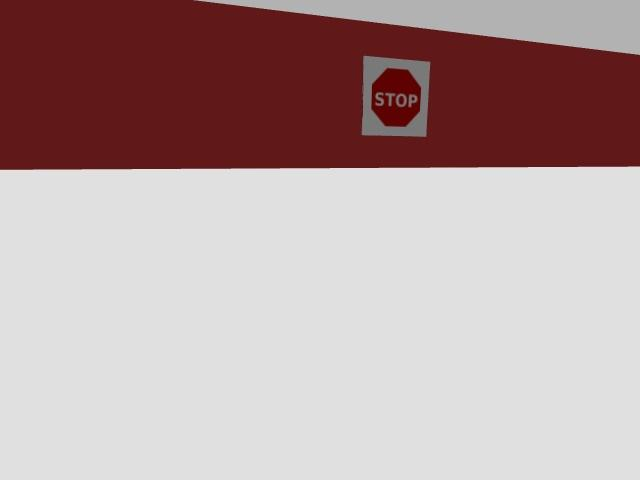stop: (362, 57, 429, 136)
